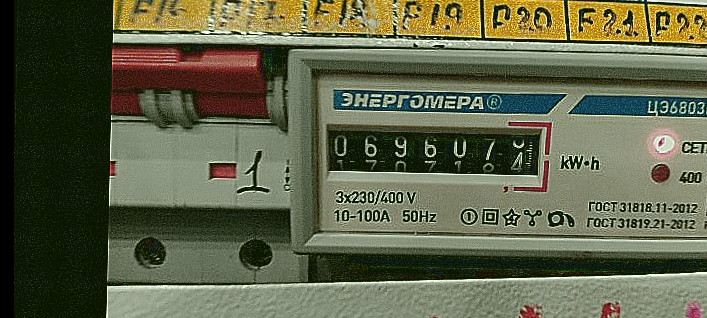0: (332, 132, 350, 156), (452, 133, 468, 158)
4: (509, 149, 525, 173)
6: (362, 133, 380, 157), (422, 133, 440, 157)
7: (482, 135, 498, 162)
9: (392, 133, 409, 158)
screen: (313, 109, 556, 189)
